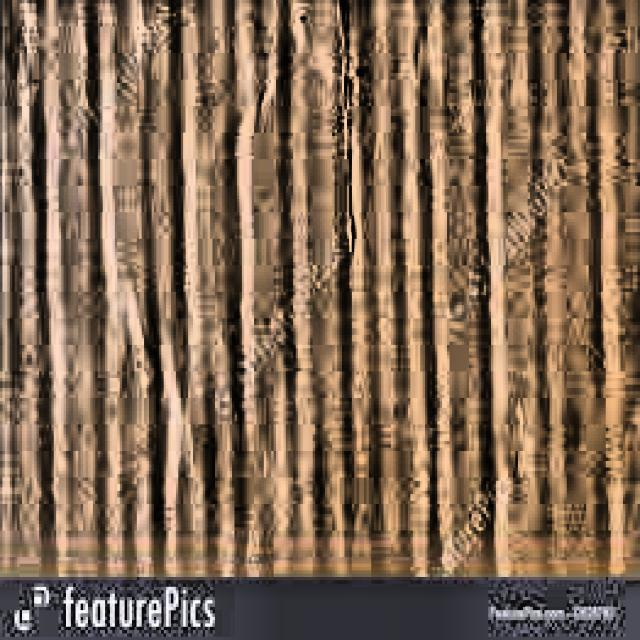cardboard: (0, 0, 638, 577)
